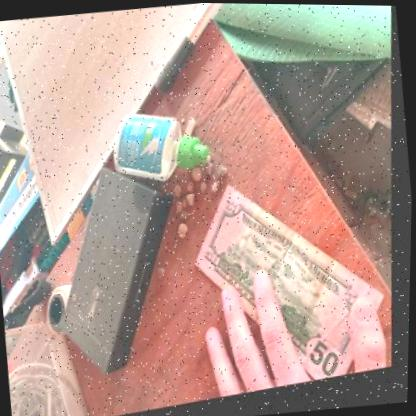fifty-back: (201, 186, 391, 384)
